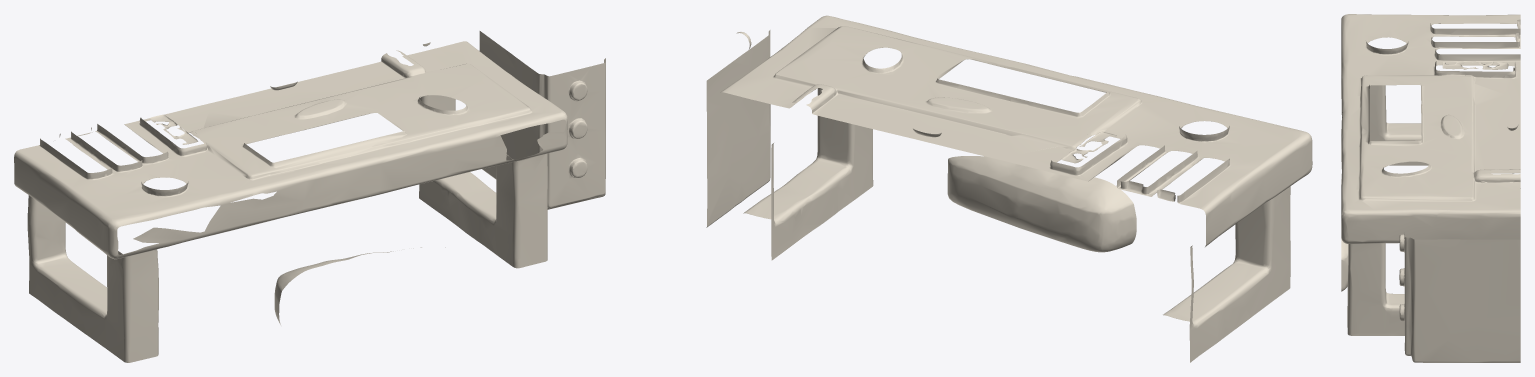
The model's file is study_desk.glb.
The picture shows the model from 3 angles, left to right: view 1: azimuth 30°, elevation 25°; view 2: azimuth 150°, elevation 25°; view 3: azimuth 270°, elevation 25°; orthographic projection. The views are drawn at different scales.
Bounding box in the file's own units: 0.8698 × 0.238 × 0.2822.
